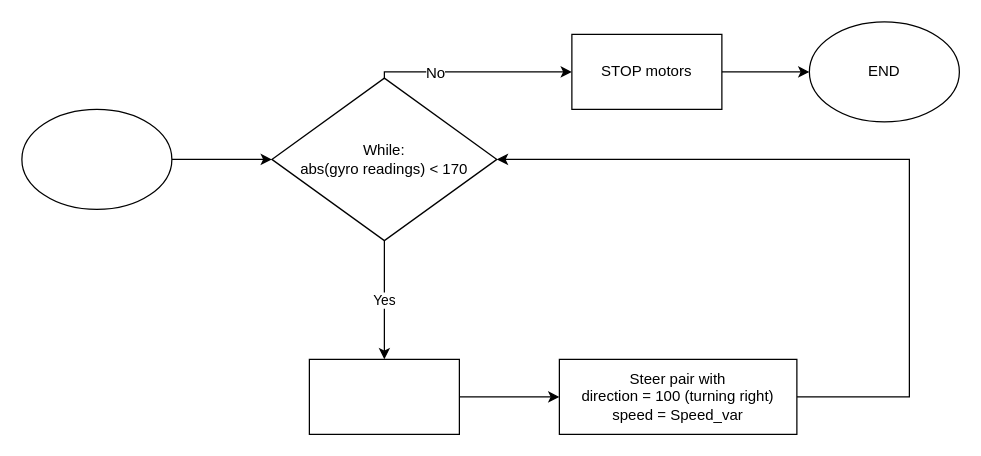
This 981x456 diagram has some shape labels left out. Each missing label, with the centre of its shape:
Speed_var = 46 - abs(angle) / 6: the point at 383,396
START: the point at 96,158
